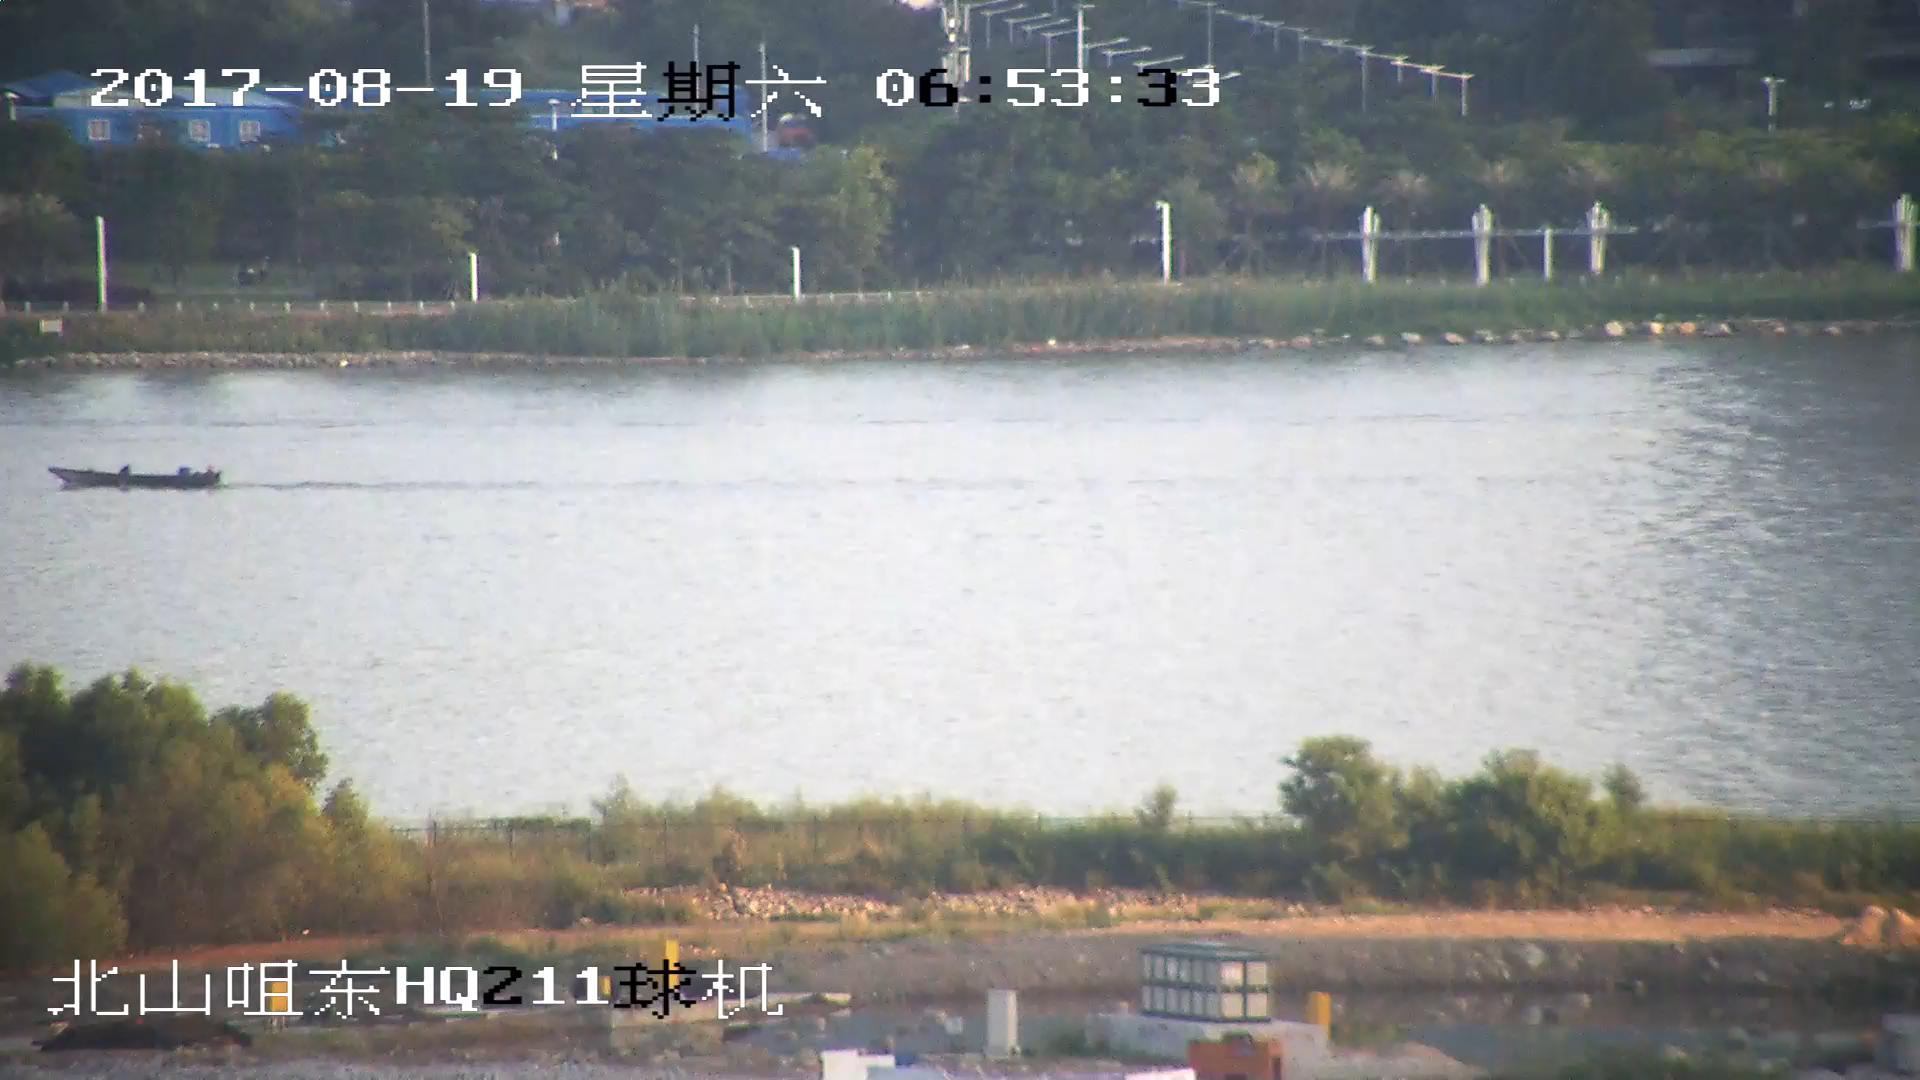fishing boat: (51, 459, 220, 491)
